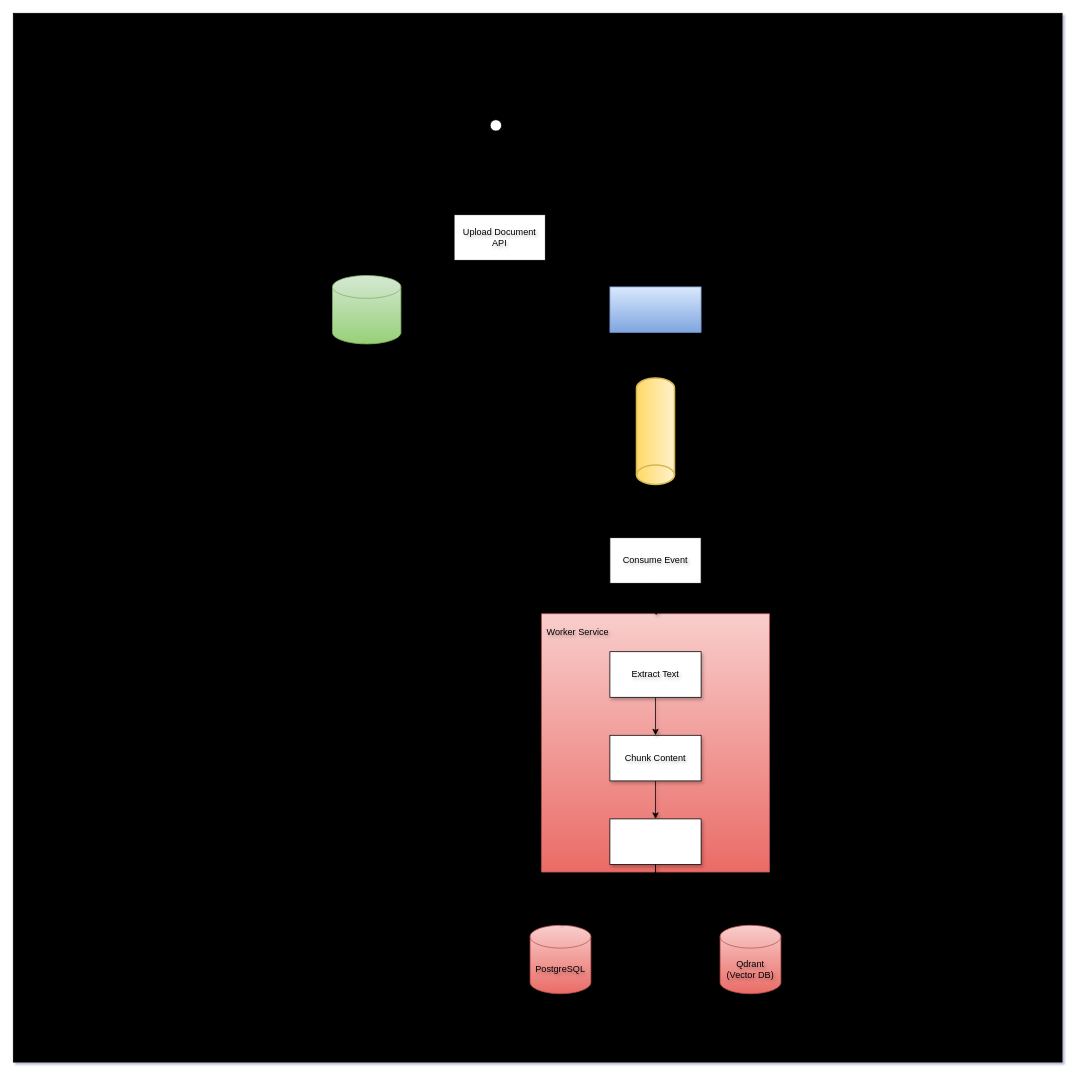
Some shapes in this 1080 by 1080 pixel diagram are drawn without their labels. Each missing label, with the centre of its shape:
"Generate Embeddings" goes at (656,842).
"Publish Processing Event" goes at (656,310).
"RabbitMQ" goes at (656,432).
"S3" goes at (367,310).
